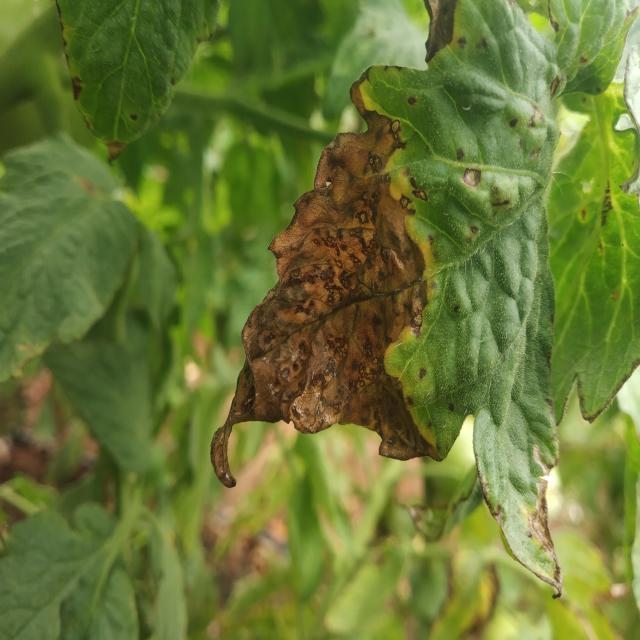Tomato mosaic virus leaf: (204, 58, 560, 492)
